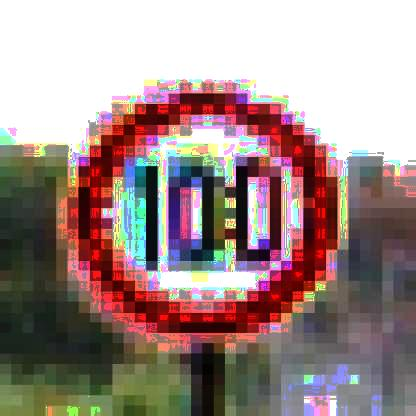Speed Limit -100-: (59, 83, 348, 346)
